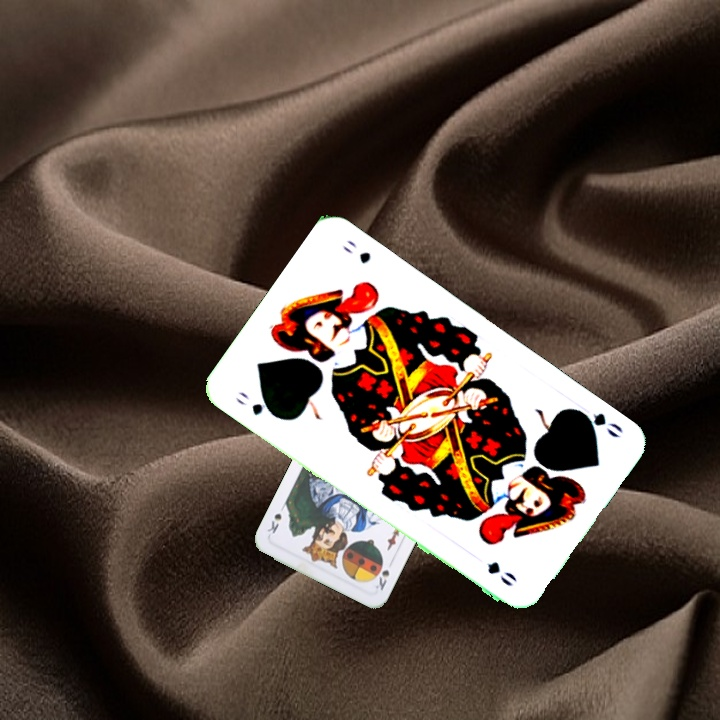GO: (570, 405, 626, 441), (231, 387, 281, 421)
SK: (371, 555, 396, 593)
